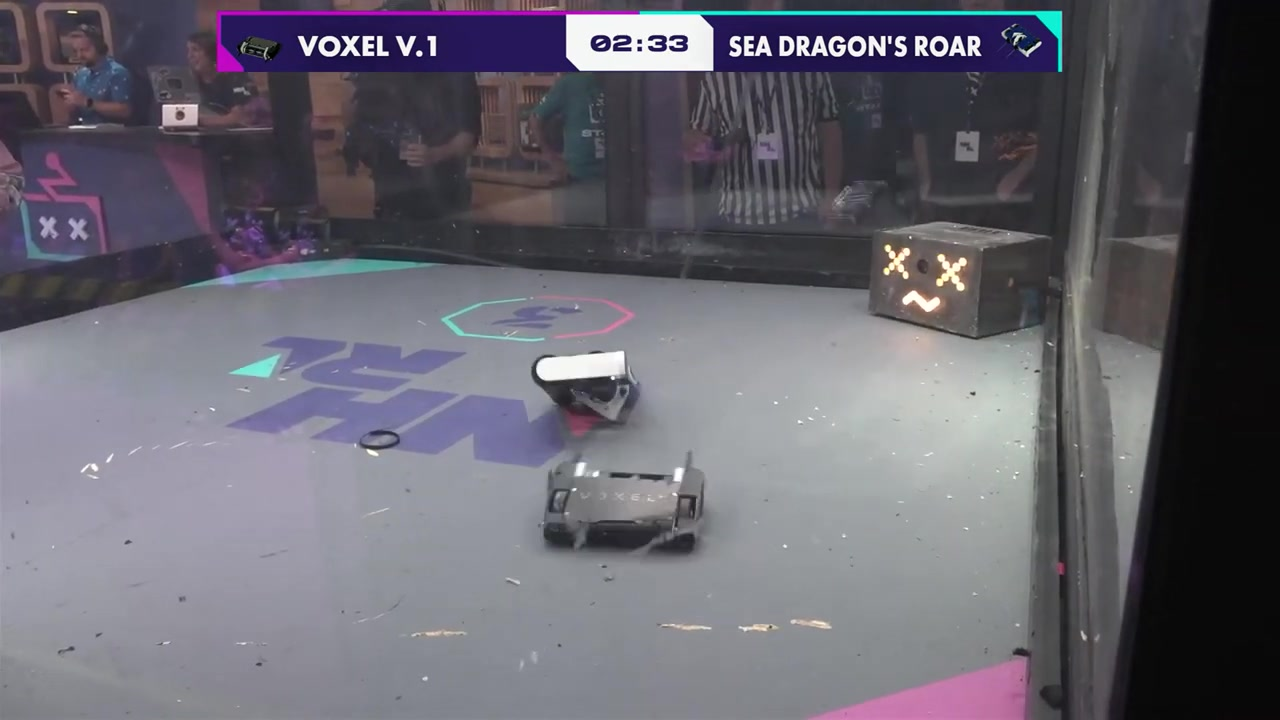belt: (361, 426, 399, 450), (309, 594, 312, 595)
combatbot: (542, 450, 708, 560), (531, 350, 641, 424)
housebot: (868, 220, 1053, 338)
